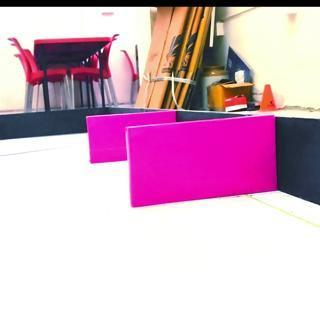xparking: (130, 127, 276, 200), (86, 115, 124, 162)
